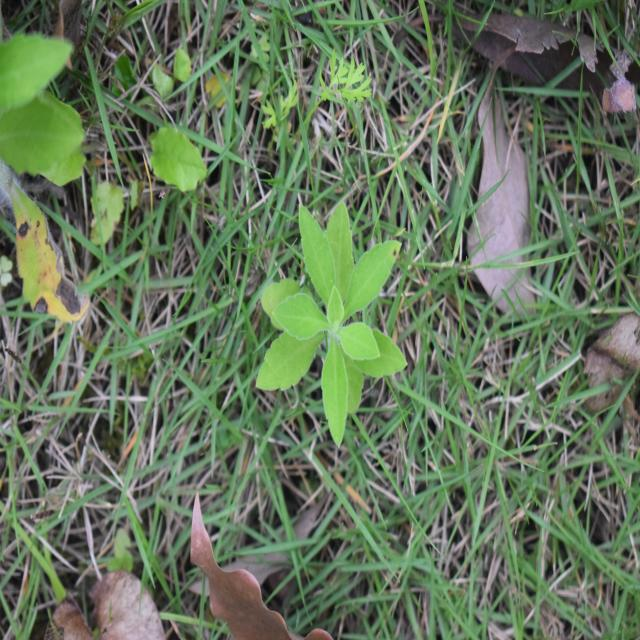horseweed: (260, 210, 413, 418)
